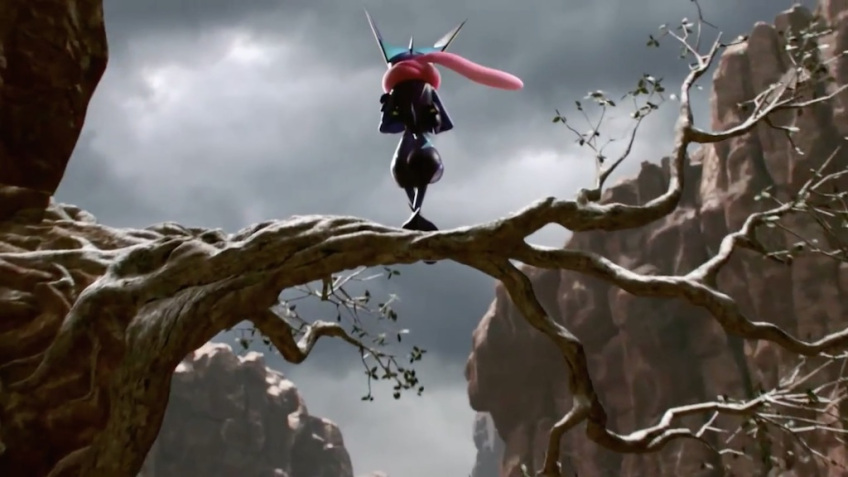greninja: (341, 1, 529, 235)
